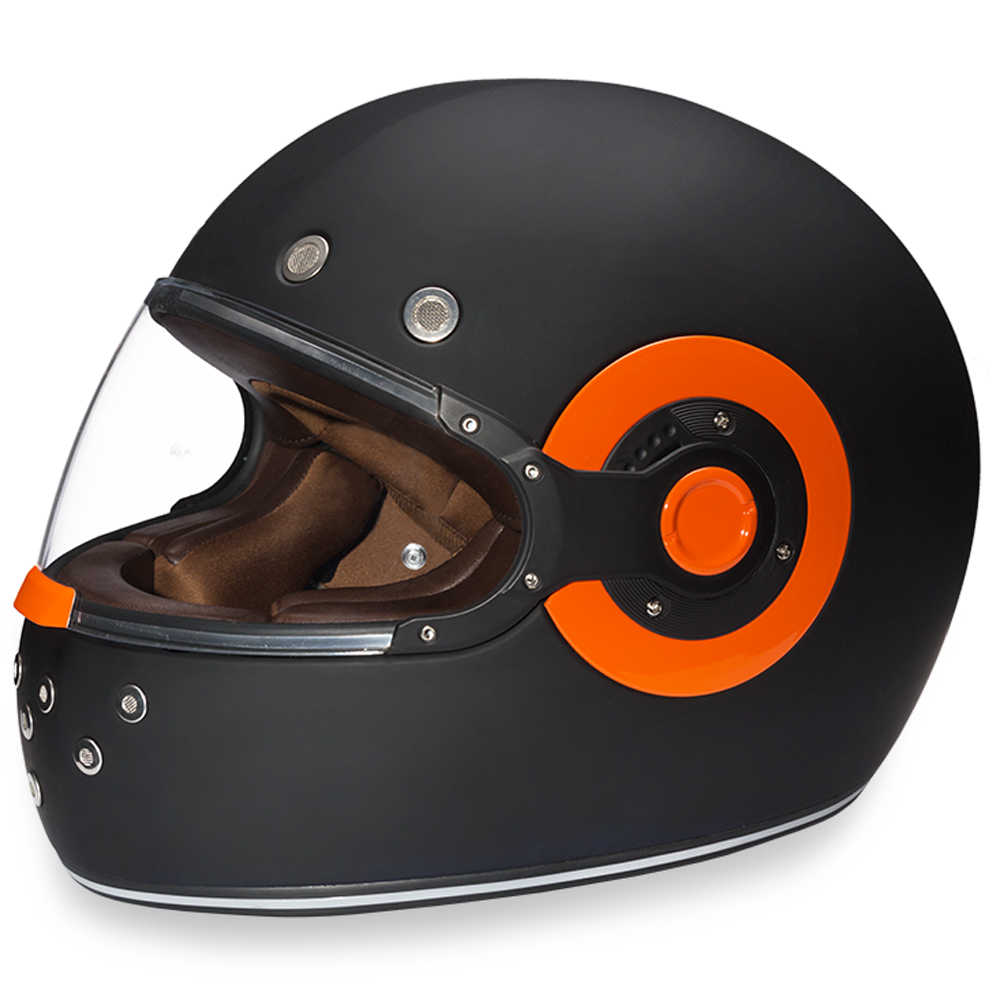with_helmet: (3, 68, 993, 926)
